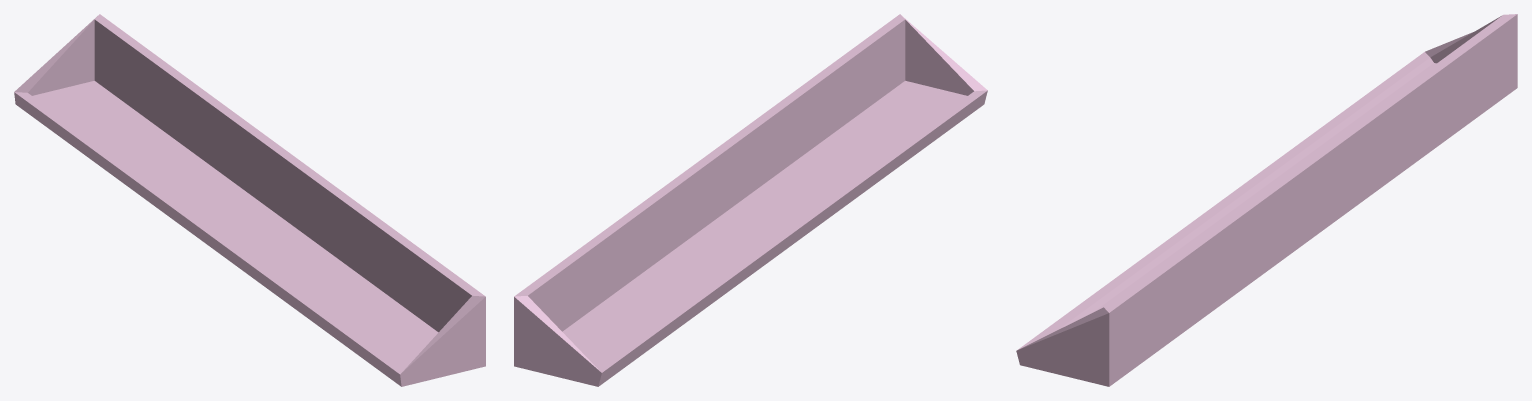
Rendered from blood.obj.
3 views of the same model, side by side, from view 1: azimuth 30°, elevation 25°; view 2: azimuth 150°, elevation 25°; view 3: azimuth 330°, elevation 25° (orthographic). The views are drawn at different scales.
Parts seen in each view (by area): view 1: Cube.001; view 2: Cube.001; view 3: Cube.001.
Part boxes in pixels (x1,y1,x2,y2): Cube.001: [14, 14, 485, 386]; Cube.001: [514, 14, 987, 386]; Cube.001: [1016, 14, 1517, 386].
Size of the model in its own units: 2.65 by 2.04 by 20.51.
Materials: 1 (1 with a texture image).
